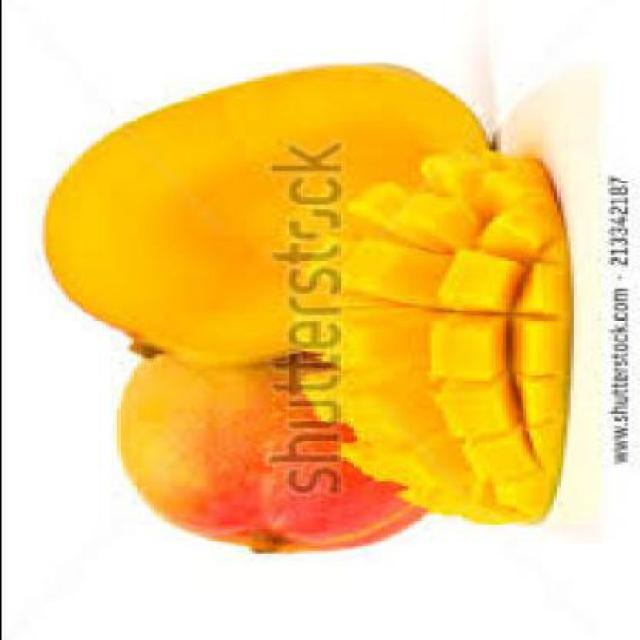BIODEGRADABLE: (43, 63, 492, 363), (334, 151, 572, 528), (115, 354, 425, 554)
